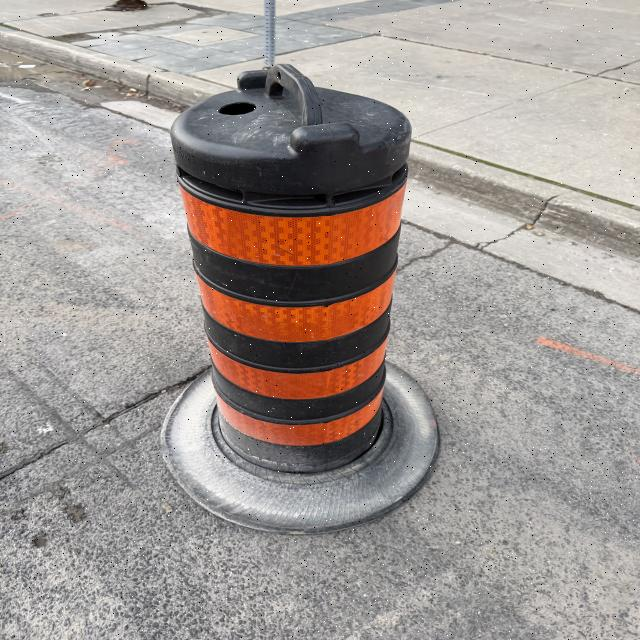Teraffic Barrel: (163, 64, 437, 530)
